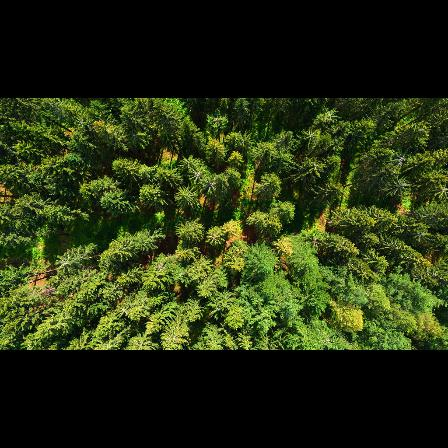Sick: (386, 172, 413, 197), (385, 147, 413, 171)
